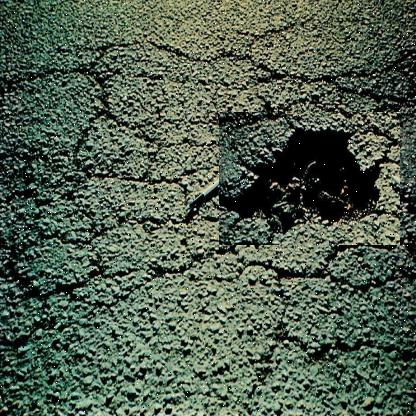pothole: (218, 112, 400, 246)
